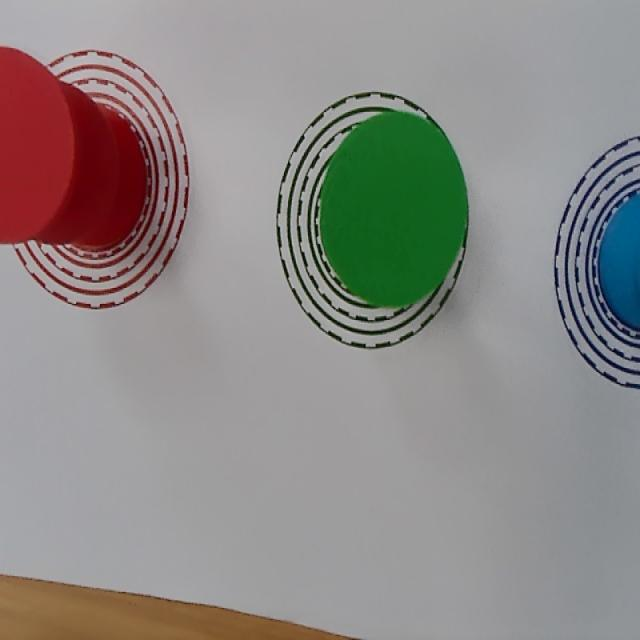g: (320, 111, 467, 306)
